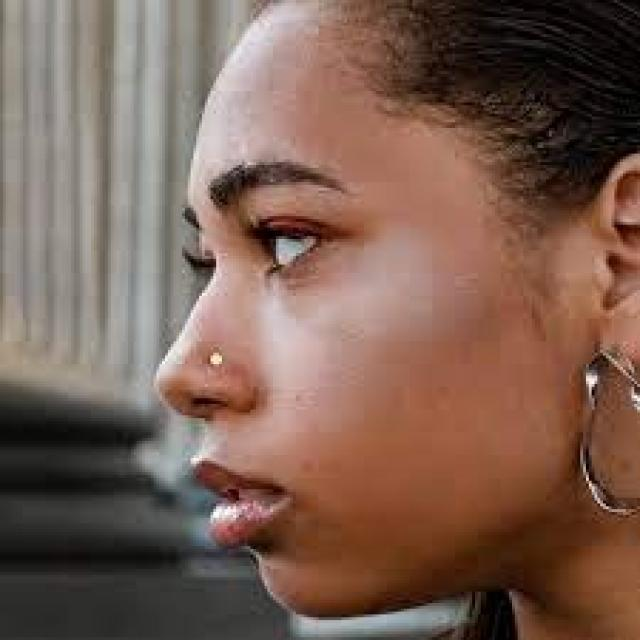Earring: (556, 324, 640, 536)
